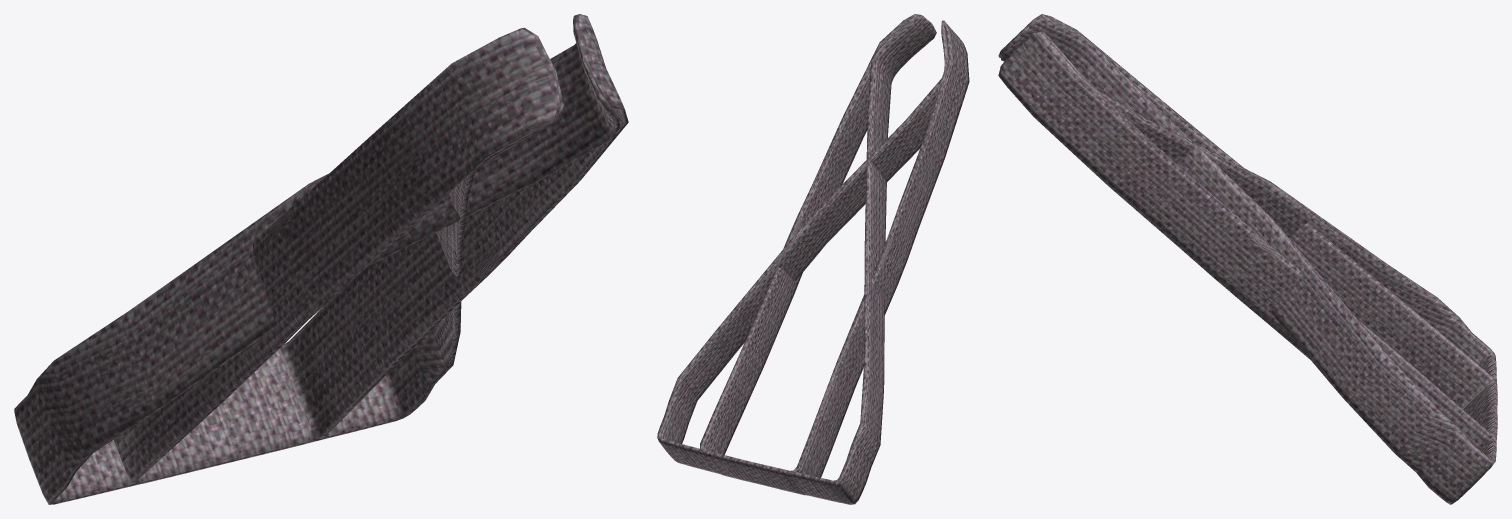
File: strings.gltf
The picture shows the model from 3 angles, left to right: view 1: azimuth 30°, elevation 25°; view 2: azimuth 150°, elevation 25°; view 3: azimuth 270°, elevation 25°; orthographic projection. The views are drawn at different scales.
Parts seen in each view (by area): view 1: strings; view 2: strings; view 3: strings.
Part boxes in pixels (x1,y1,x2,y2): strings: [14, 14, 628, 504]; strings: [657, 14, 969, 504]; strings: [998, 14, 1497, 504].
Size of the model in its own units: 0.1209 by 0.2129 by 0.2238.
Materials: 1 (1 with a texture image).
